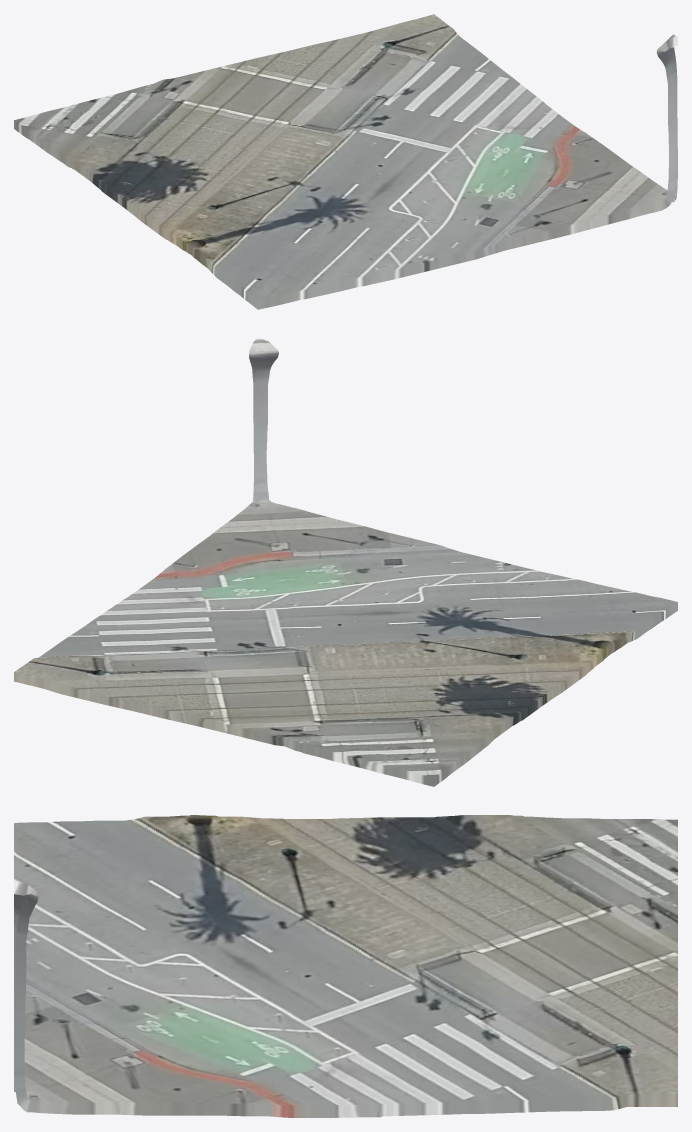
File: z20-167782-405211-h0-yup-uvflip-v3-world.glb
3 views of the same model, one above another, from view 1: azimuth 30°, elevation 25°; view 2: azimuth 150°, elevation 25°; view 3: azimuth 270°, elevation 25° (orthographic). The views are drawn at different scales.
Size of the model in its own units: 30.16 by 11.88 by 30.32.
Materials: 1 (1 with a texture image).
